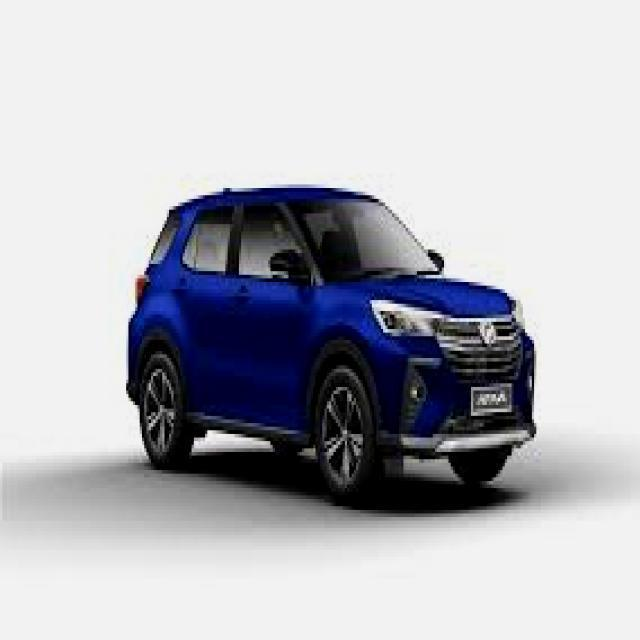PeroduaAtiva: (124, 183, 538, 503)
